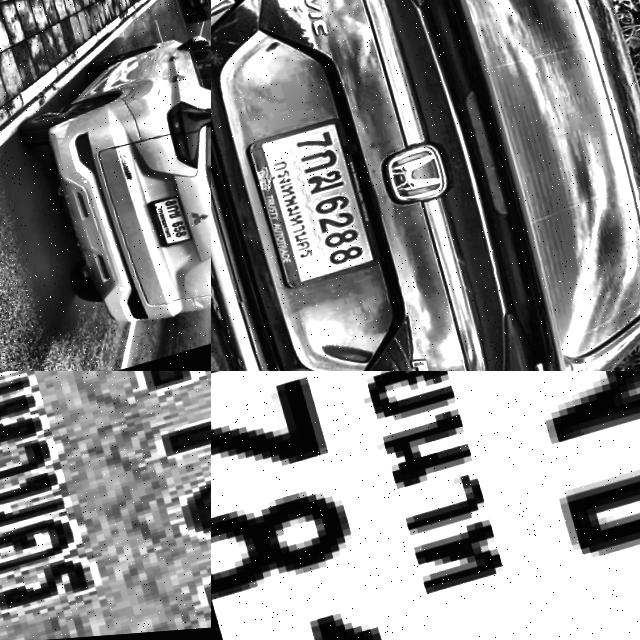license-plate: (211, 371, 640, 640), (0, 371, 211, 640), (237, 114, 384, 297), (141, 200, 187, 257), (190, 0, 204, 13)
